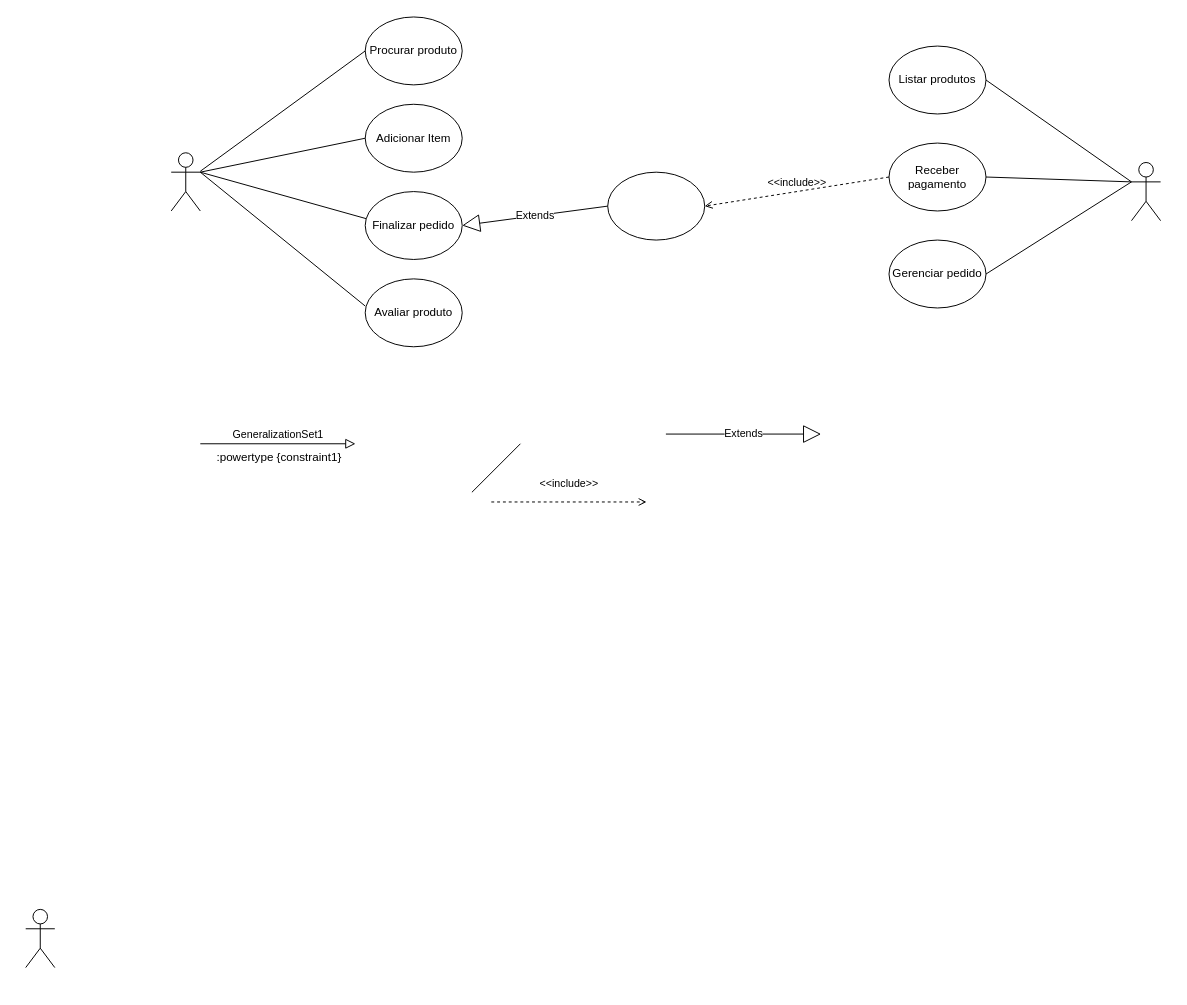
Some shapes in this 1187 by 1005 pixel diagram are drawn without their labels. Here are the shapes that lost their labels. From the top down, the centre of each, then its label:
At (x=185, y=181): "Comprador".
At (x=1146, y=191): "Vendedor".
At (x=656, y=205): "Preencher informação de pagamento".
At (x=40, y=938): "Hóspede".
